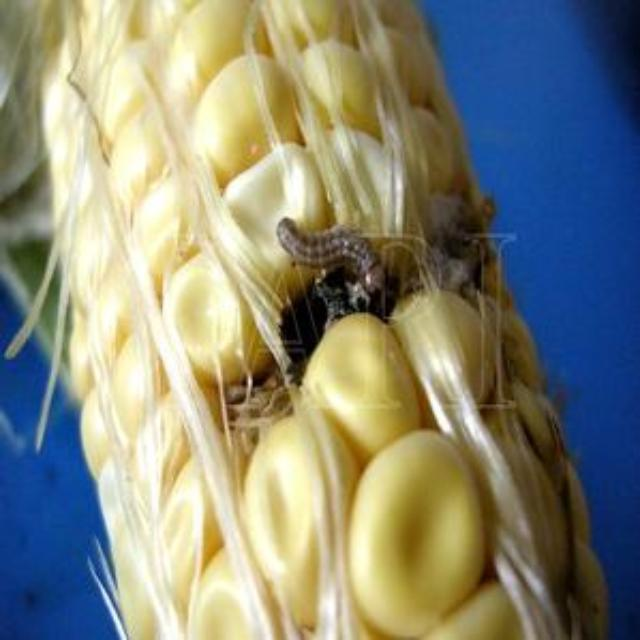Cotton bollworm: (260, 184, 414, 322)
